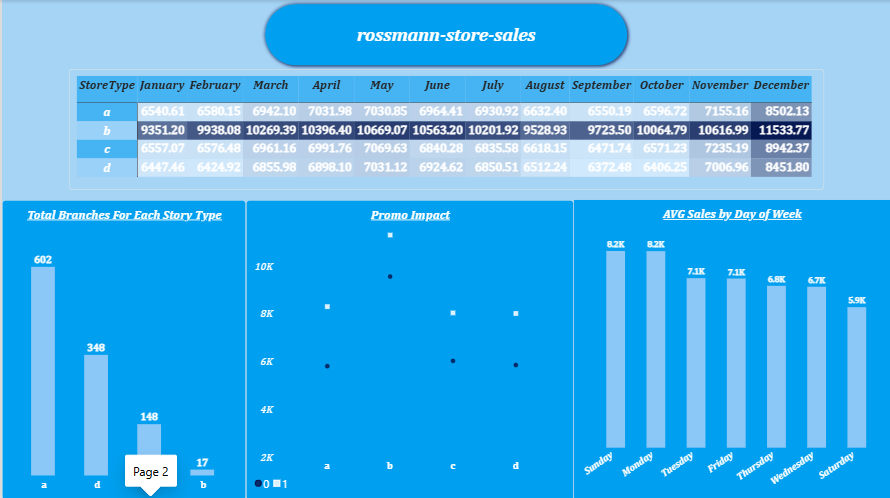

The page's visual inventory and layout, read from the dashboard file:
{"tool":"powerbi","page":{"name":"Page 2","canvas":[1920,1080],"ordinal":1},"visuals":[{"type":"columnChart","title":"Total Branches For Each Story Type ","fields":{"Category":["train.StoreType"],"Y":["Count(train.Store)"]},"box":[0,432,527,648],"z":0},{"type":"shape","box":[560,0,800,150],"z":1000},{"type":"pivotTable","fields":{"Columns":["train.Date.Variation.Date Hierarchy.Month"],"Rows":["train.StoreType"],"Values":["Avg(train.Sales)"]},"box":[145,149,1630.8,261.4],"z":2000},{"type":"columnChart","title":" AVG Sales by Day of Week","fields":{"Category":["train.Day Name"],"Y":["Avg(train.Sales)"]},"box":[1235.5,432,684.7,648],"z":2001},{"type":"scatterChart","title":"Promo Impact ","fields":{"Series":["train.Promo"],"X":["train.StoreType"],"Y":["Avg(train.Sales)"]},"box":[527,432,708.5,648],"z":2002}]}

Visuals, with their boxes on the page's 1920x1080 design canvas (x1, y1, x2, y2). These are canvas units, not pixel positions in the 890x498 screenshot, which may show the page scaled, cropped or inside an application window:
"Total Branches For Each Story Type " columnChart: left=0, top=432, right=527, bottom=1080
shape: left=560, top=0, right=1360, bottom=150
pivotTable - train.Date.Variation.Date Hierarchy.Month x train.StoreType: left=145, top=149, right=1776, bottom=410
" AVG Sales by Day of Week" columnChart: left=1236, top=432, right=1920, bottom=1080
"Promo Impact " scatterChart: left=527, top=432, right=1236, bottom=1080
